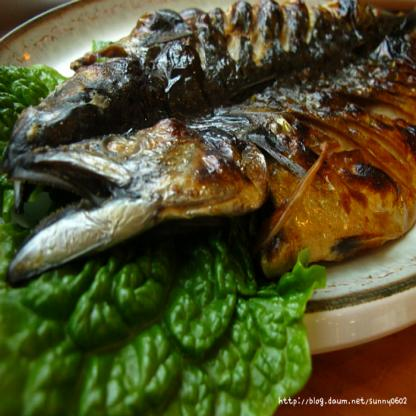Peixe: (7, 0, 416, 279)
